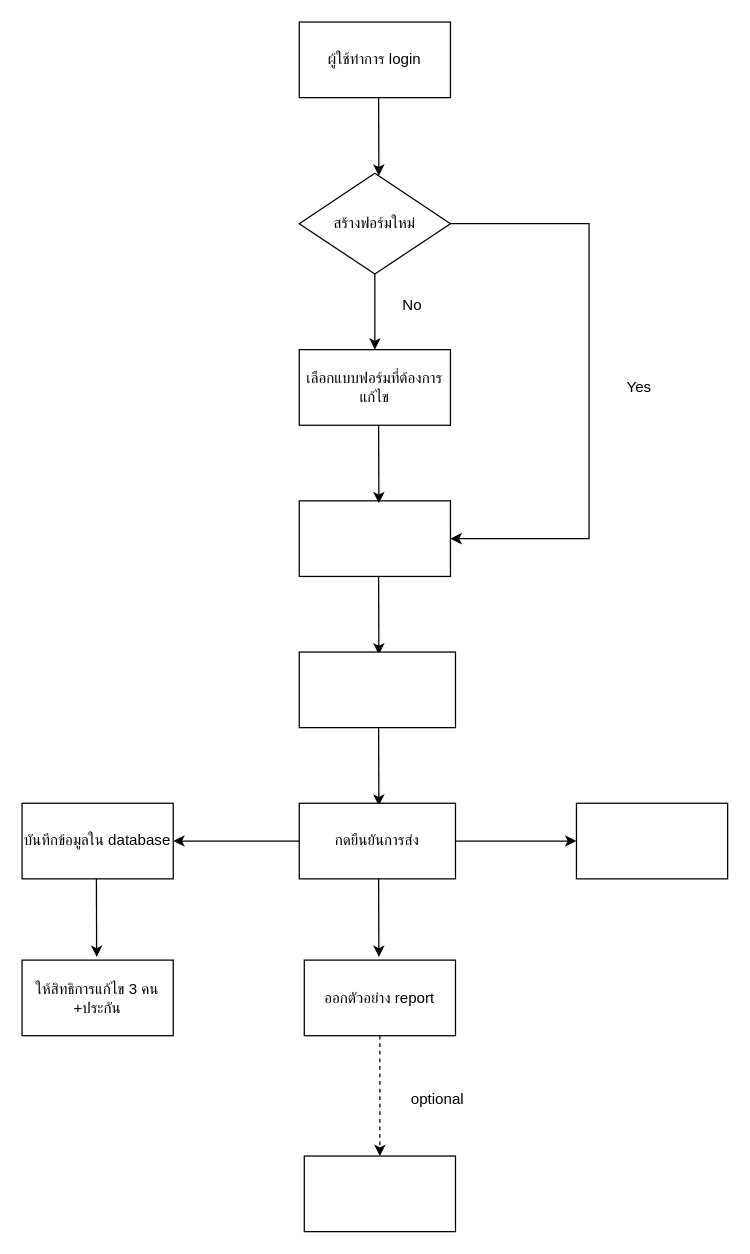
Image size: 750x1254. Some labels were removed from this diagram. Each missing label, with the centre of its shape:
checkbox เลือกสิ่งที่ต้องการทำ: the point at 374,538
print report(pdf): the point at 379,1193
ทำการกรอกข้อมูลต่างๆเข้าสู่ระบบ: the point at 376,689
ส่งข้อมูลไปที่ ประกัน: the point at 651,840
